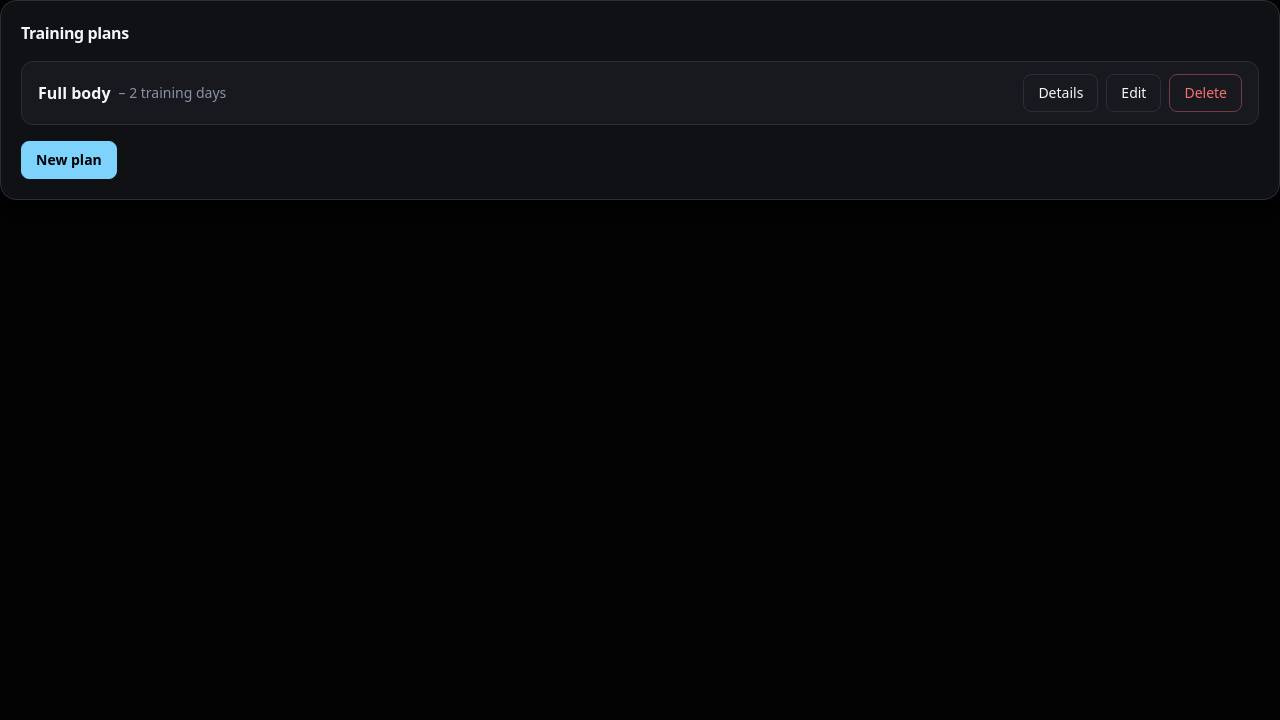
Scenario: Plans › deletes a plan after confirming the dialog
The image size is (1280, 720).
Click the button "Delete": (1206,93) [1169,74,1242,112]
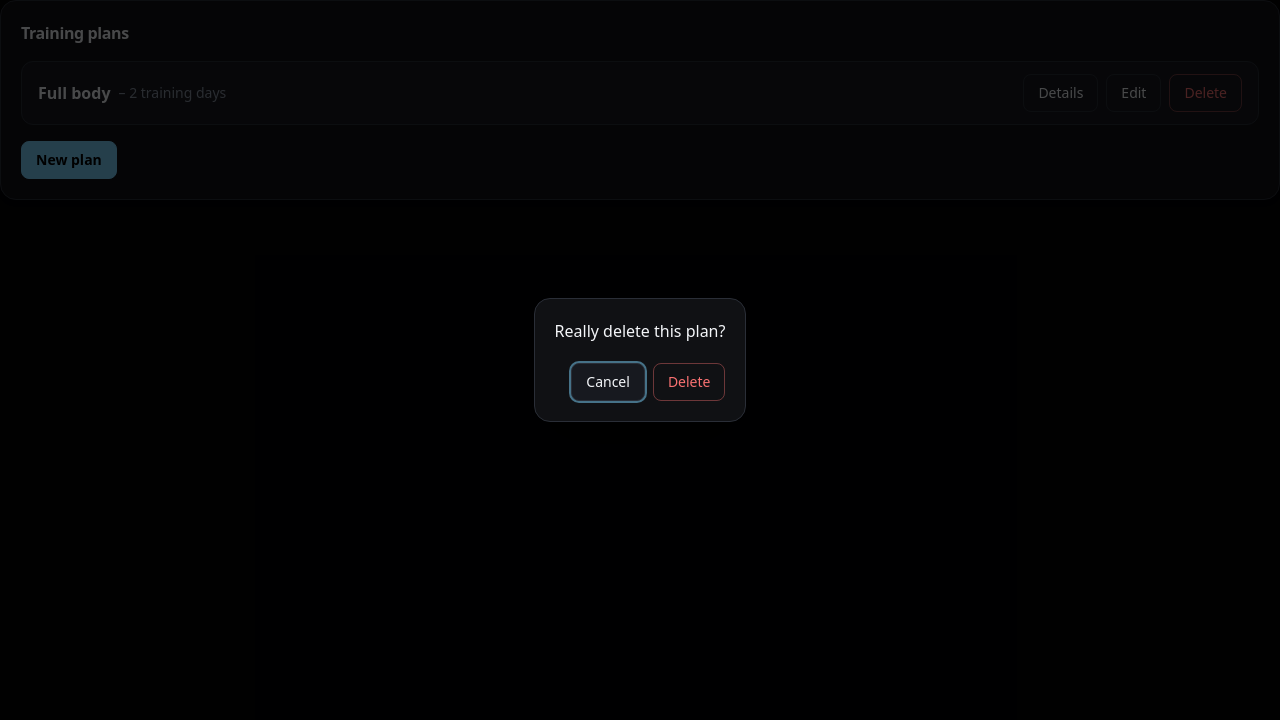
Click the button "Delete": (689,382) [653,363,726,401]
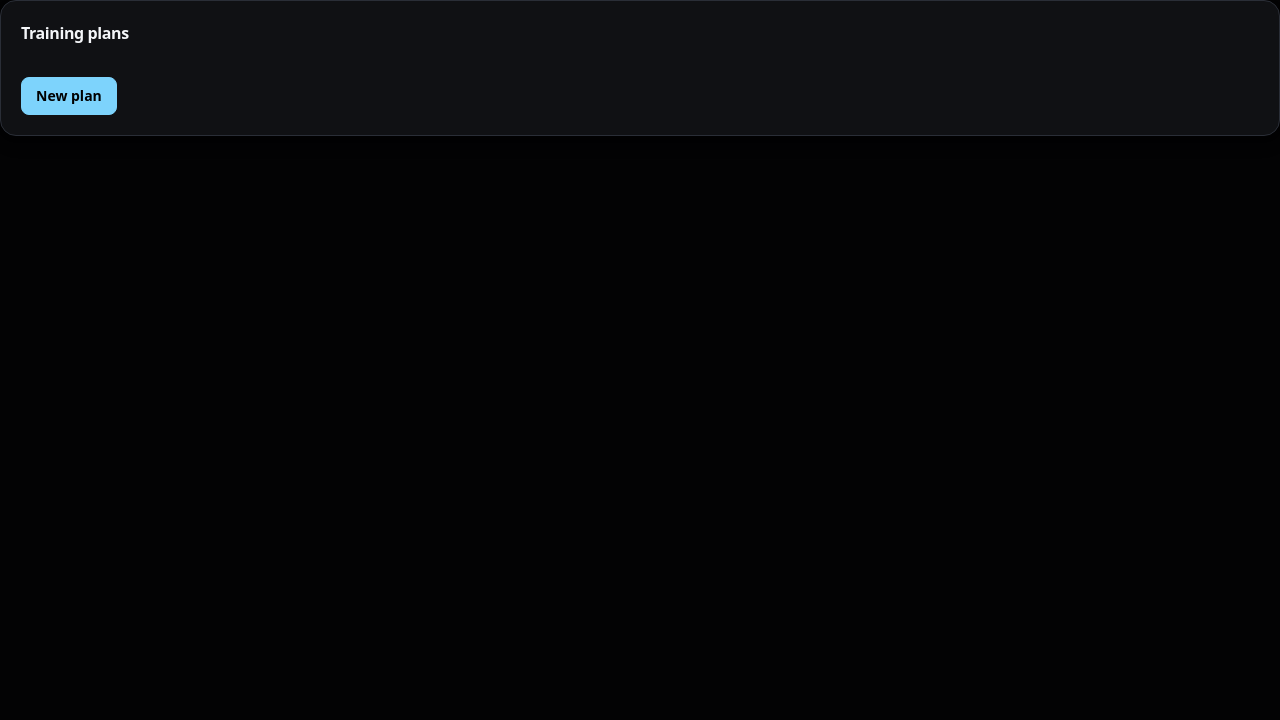
Expected: the button "New plan" is shown, [21,77,117,115]
Expected: the text "Full body" is gone
